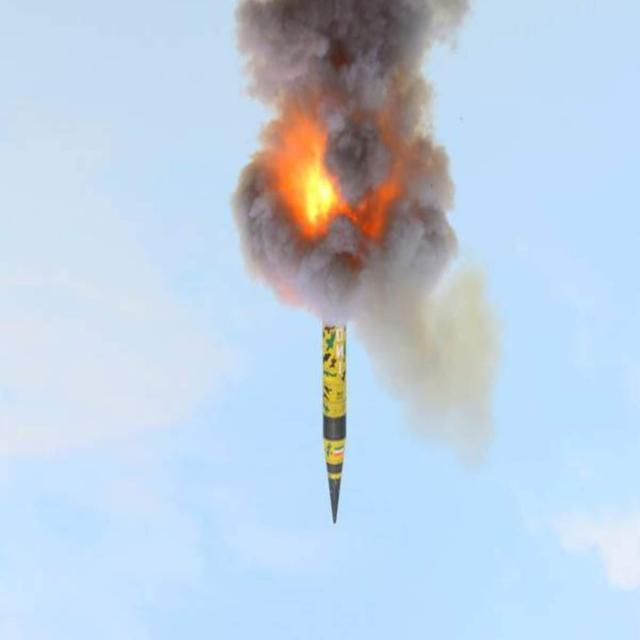Missile: (318, 307, 352, 537)
